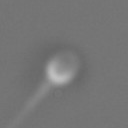normal: (1, 79, 52, 128)
